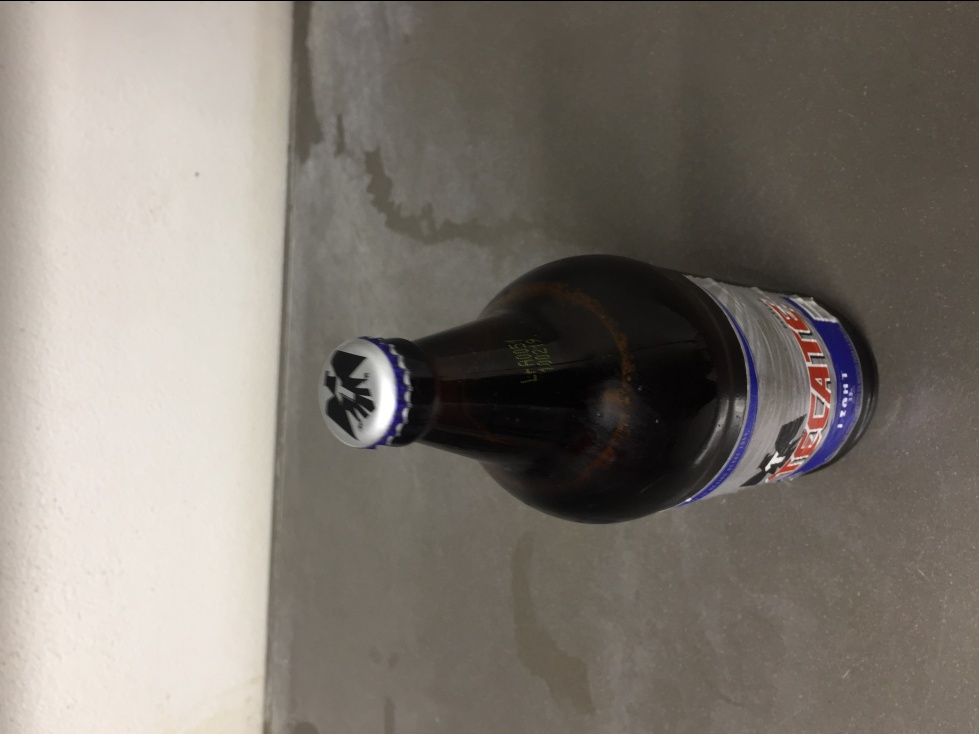tecateC: (317, 257, 876, 526)
